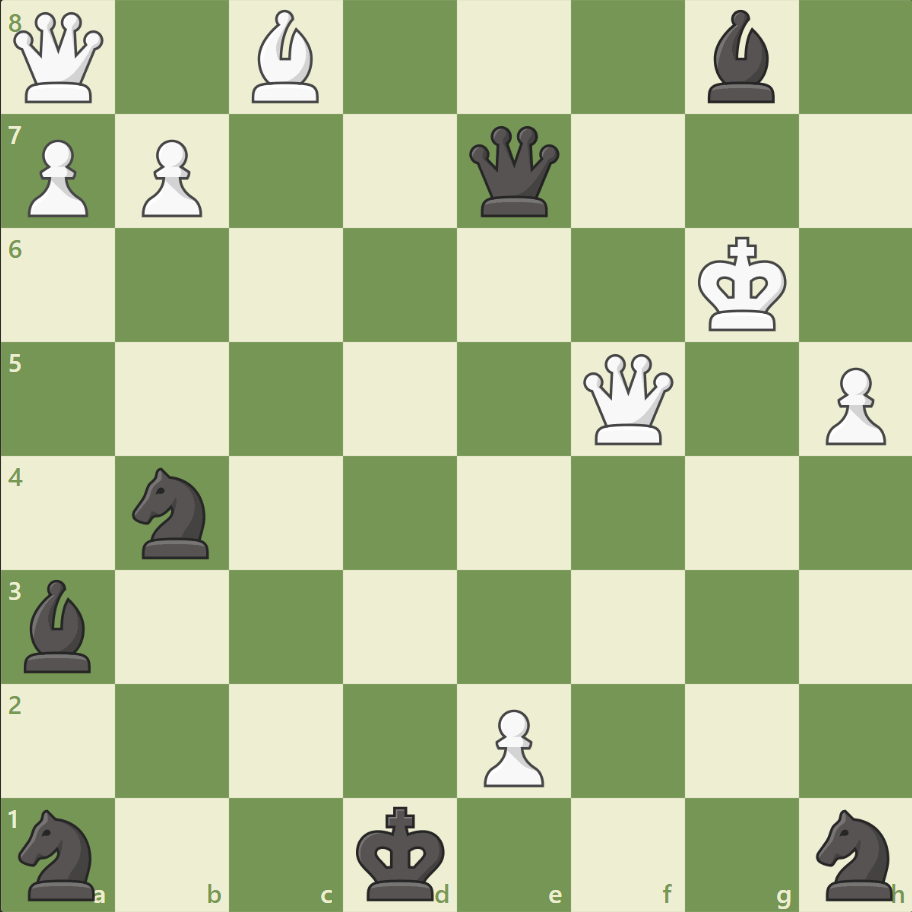B: (244, 6, 328, 109)
K: (692, 231, 792, 339)
P: (20, 132, 95, 223), (133, 132, 208, 223), (474, 700, 549, 791), (815, 359, 889, 450)
Q: (578, 349, 677, 449), (10, 9, 109, 108)
b: (698, 6, 782, 109), (17, 574, 101, 676)
k: (351, 798, 451, 906)
n: (124, 461, 222, 564), (11, 802, 108, 904), (806, 802, 903, 904)
q: (464, 122, 563, 222)
